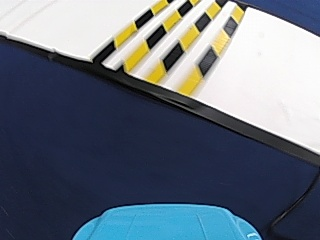bump: (93, 3, 247, 72)
